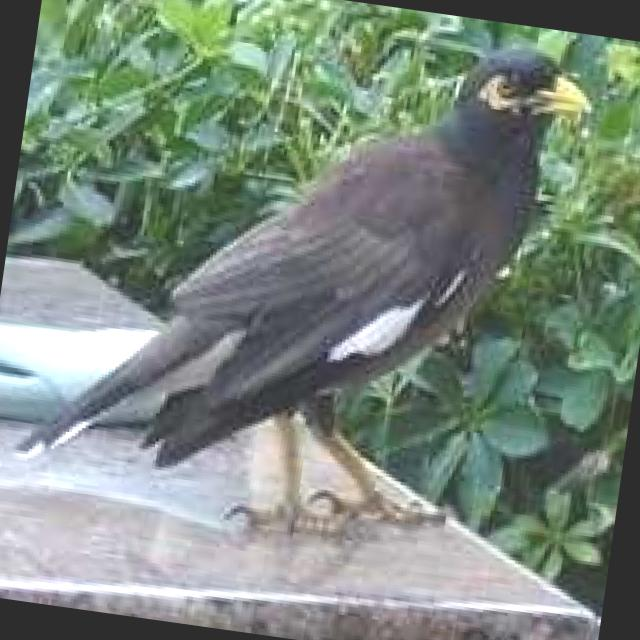bird: (7, 0, 616, 577)
